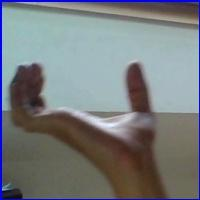B: (7, 53, 170, 173)
